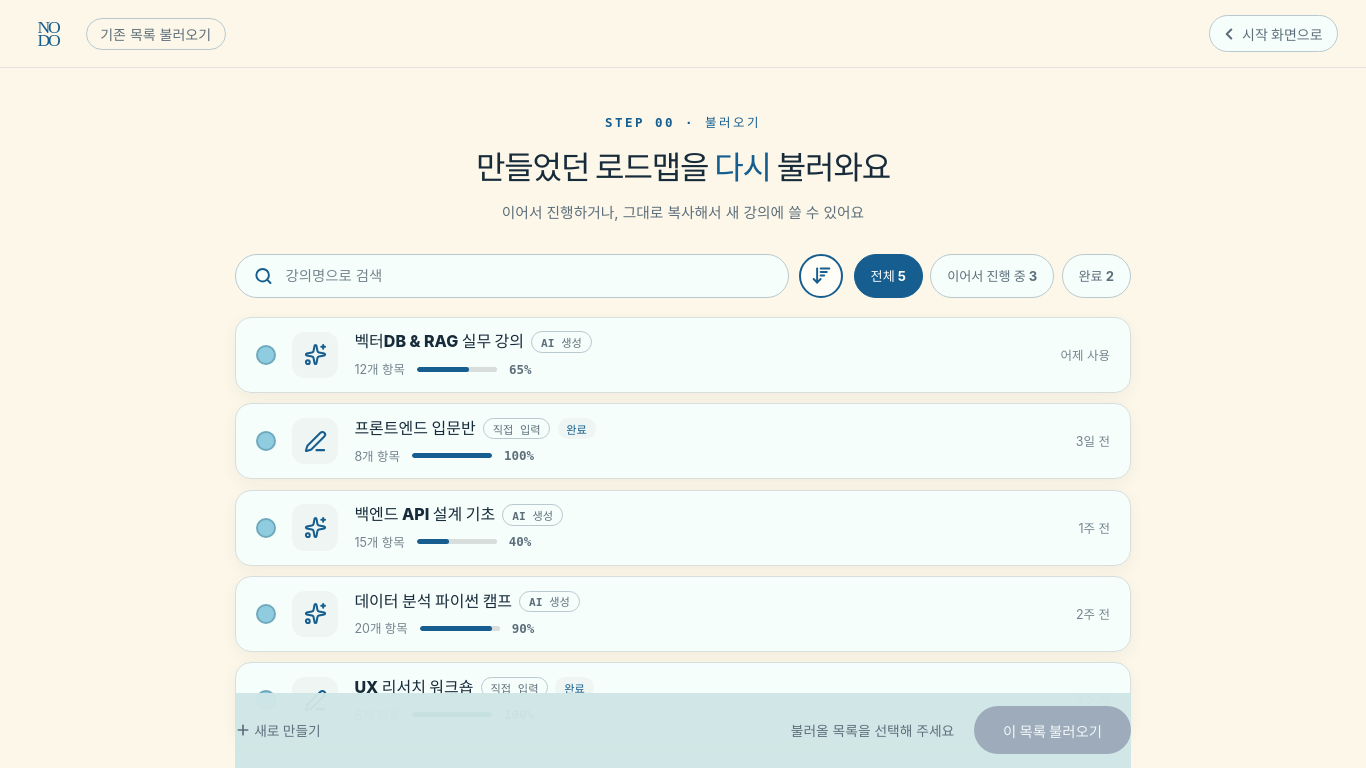
Test case: ImportCoursesPage › 행을 눌러도 하나의 목록만 선택한다
The width and height of the screenshot is (1366, 768).
Step 1. Click the text "벡터DB & RAG 실무 강의" → [439, 342], box 354,331 -> 524,353
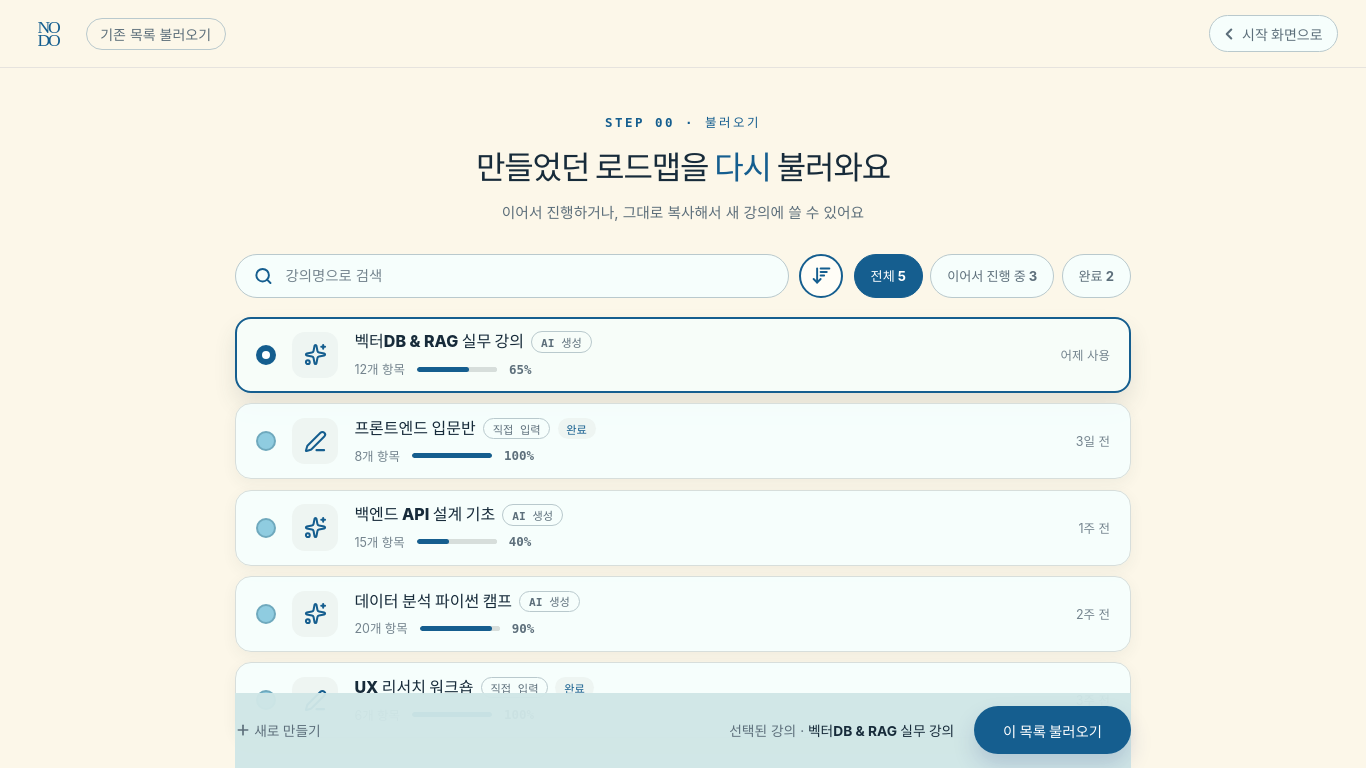
Now the radio button with aria-label "벡터DB & RAG 실무 강의 선택" is checked, box 256,345 -> 276,365
Step 2. Click the text "프론트엔드 입문반" → [415, 428], box 354,418 -> 476,439
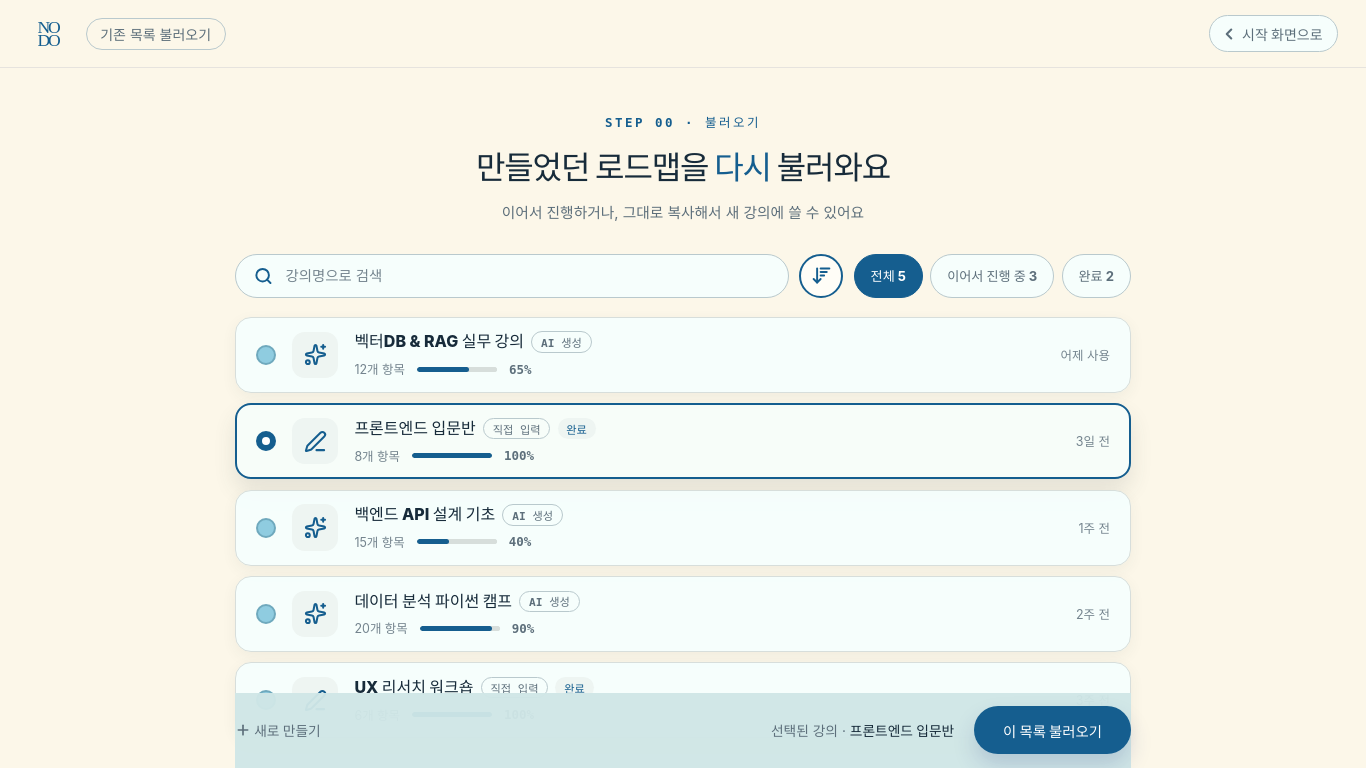
Now the radio button with aria-label "벡터DB & RAG 실무 강의 선택" is not checked, box 256,345 -> 276,365
Now the radio button with aria-label "프론트엔드 입문반 선택" is checked, box 256,431 -> 276,451
